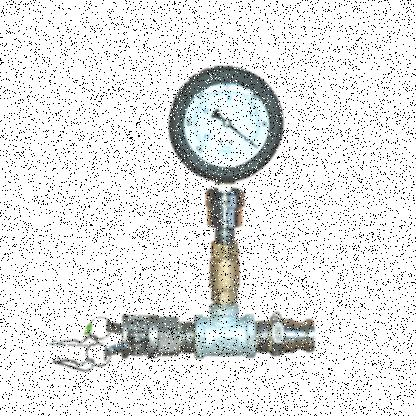needle: (228, 124, 255, 146)
